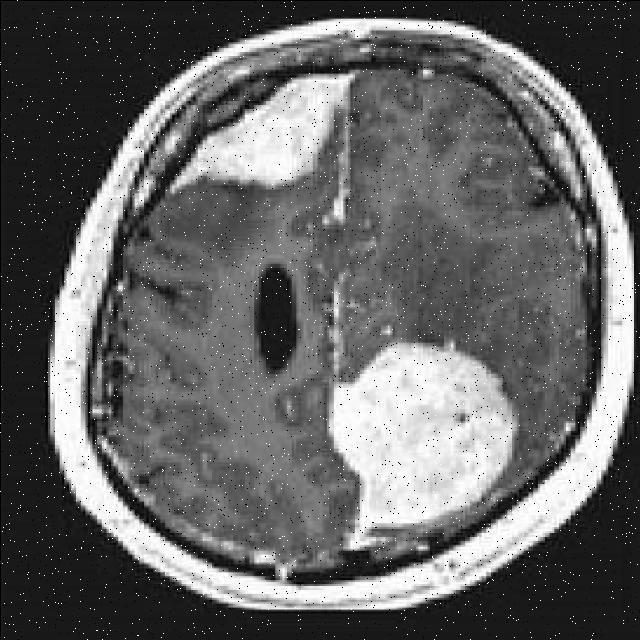Meningioma: (331, 344, 516, 532), (179, 76, 351, 187)
